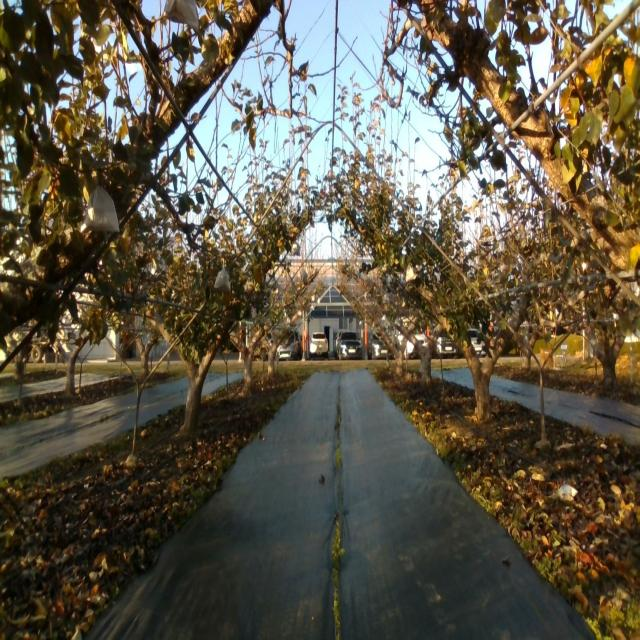pearbags: (80, 186, 120, 234), (162, 0, 200, 31), (213, 265, 231, 291), (405, 264, 417, 283)
